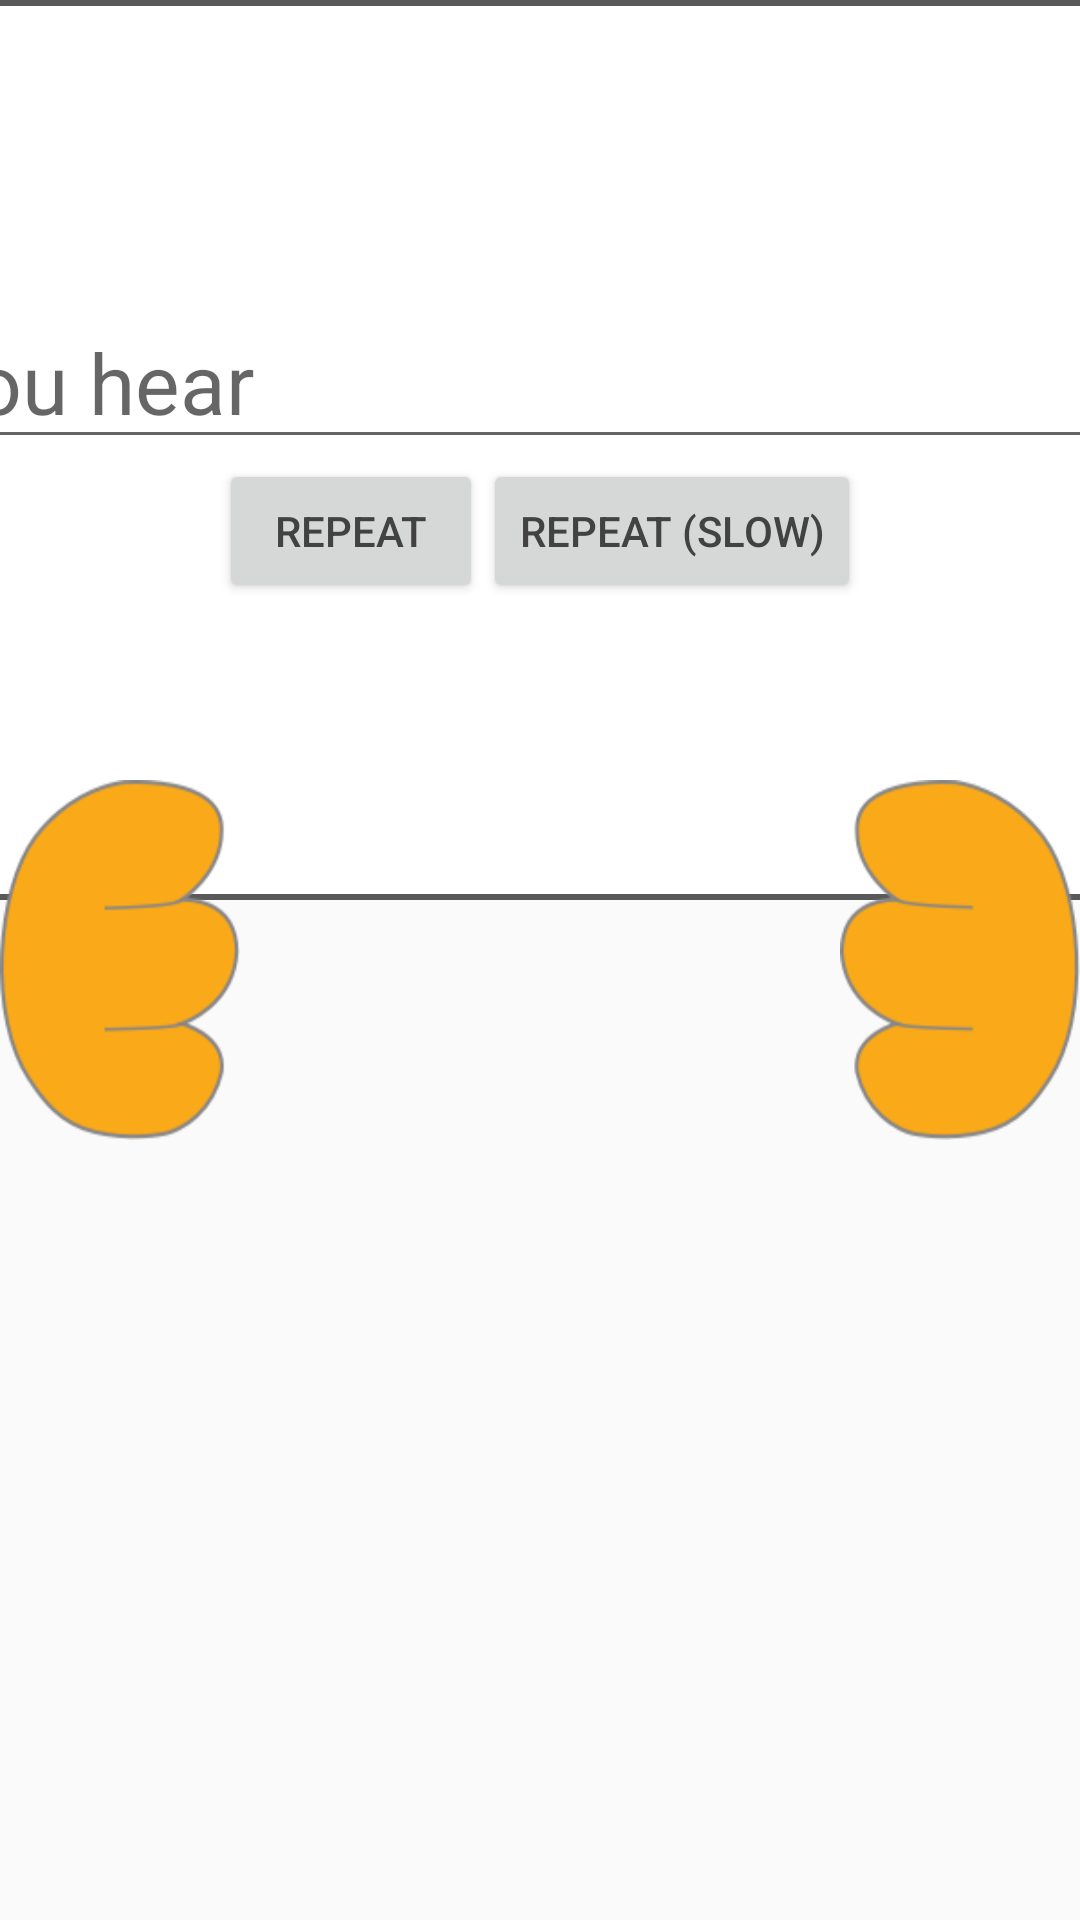

Screen size 1080w x 1920h. Icon name, then its center in pixels as point (x, y):
left hand: point (120, 960)
right hand: point (960, 960)
